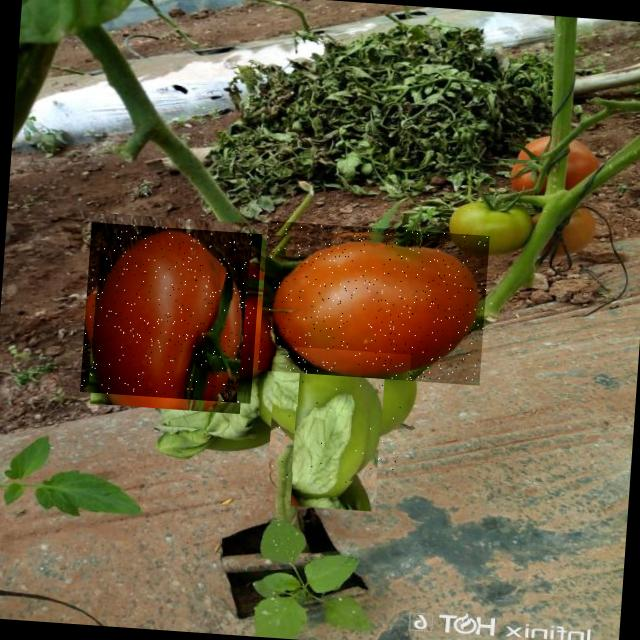Ripe Tomato: (258, 220, 490, 385), (80, 222, 262, 404)
Unripe Tomato: (267, 345, 411, 488)
